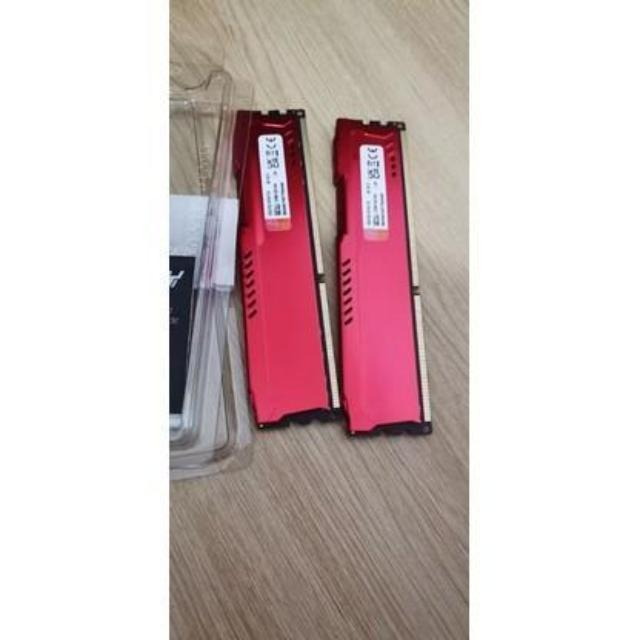RAM: (228, 106, 342, 434), (338, 112, 440, 440)
